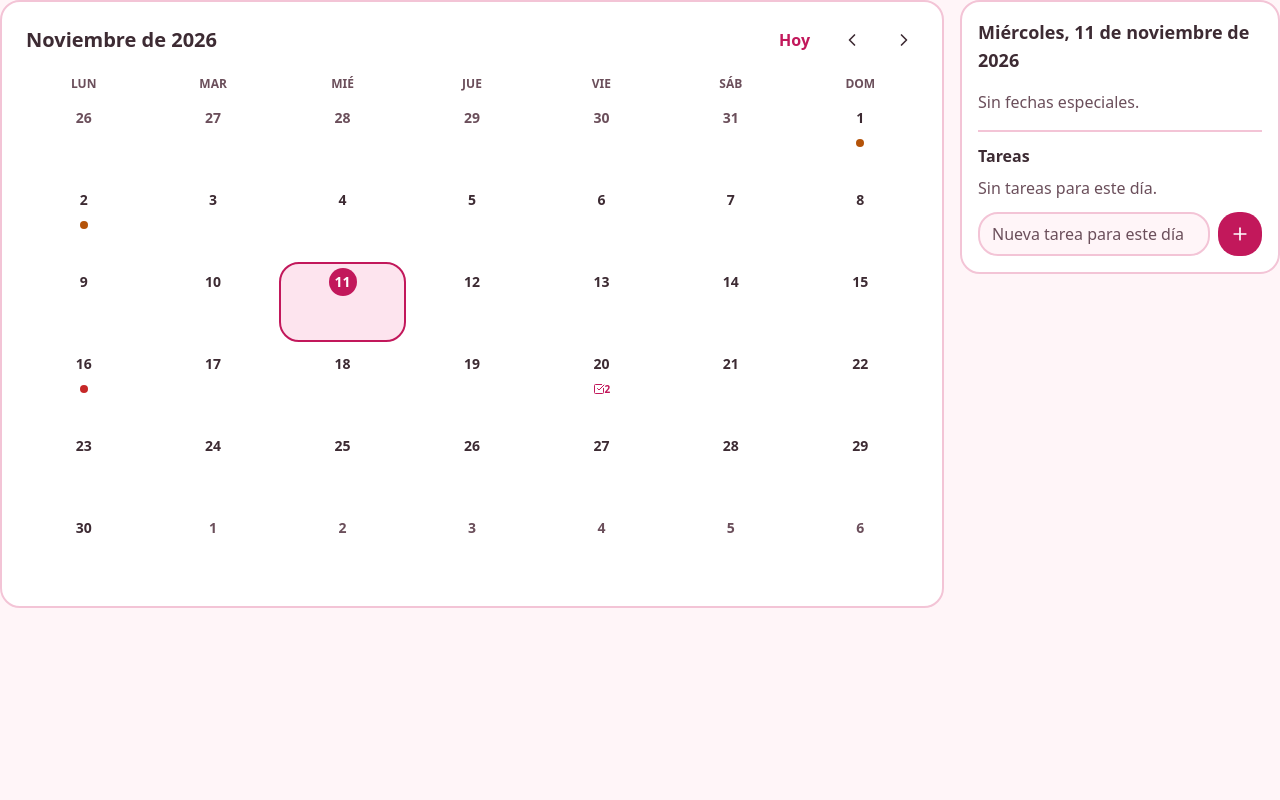
Scenario: MonthCalendar › tasks › announces pending tasks in the day name and lists them in the details
Click the button "20 2": (601, 384) [538,344,665,424]
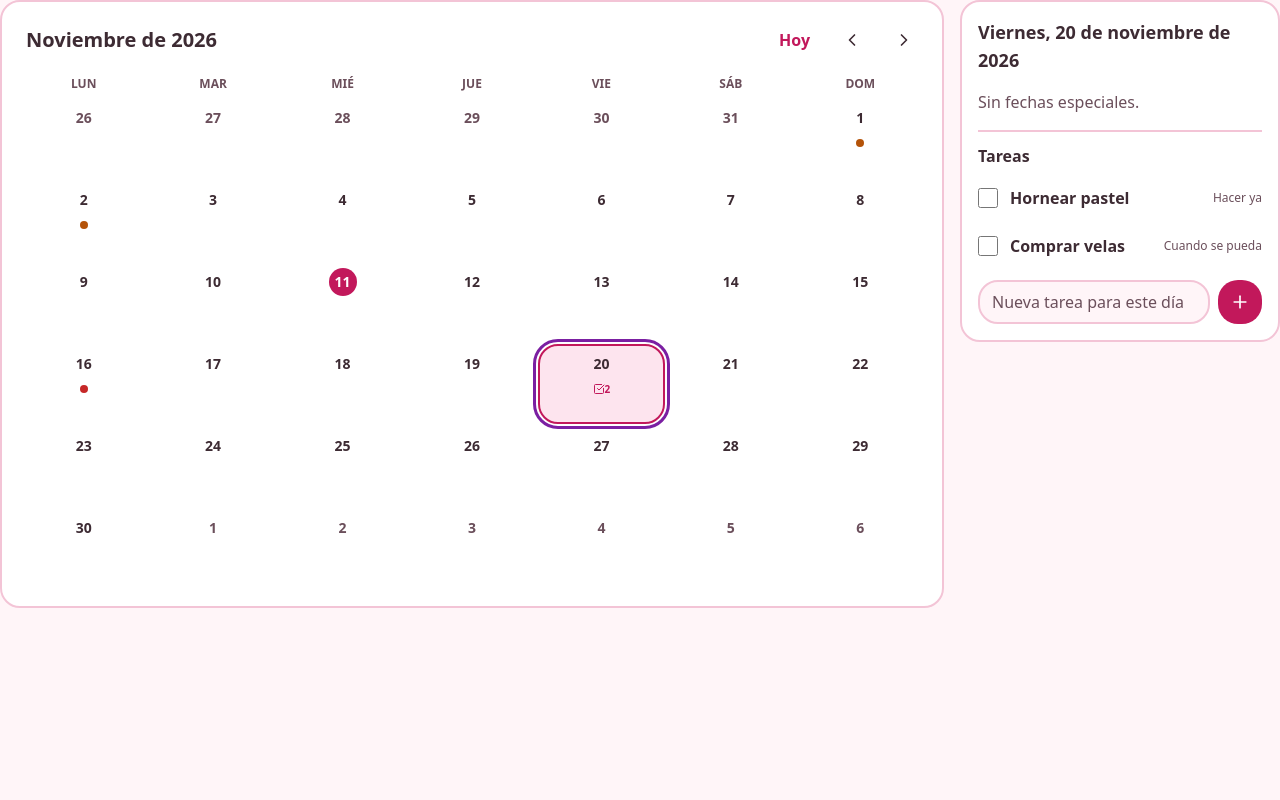
Expected: the checkbox labelled "Hornear pastel Hacer ya" is not checked, [978,188,998,208]
Expected: the text "Hacer ya" is shown, [1213,190,1262,206]
